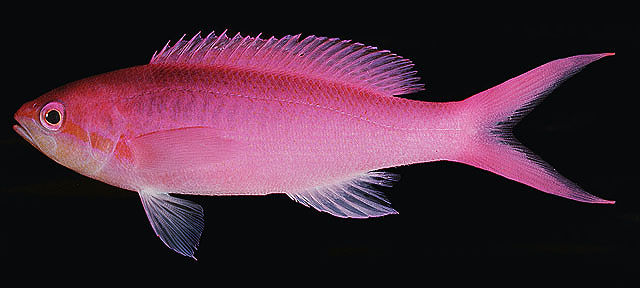fish: (13, 29, 616, 261)
